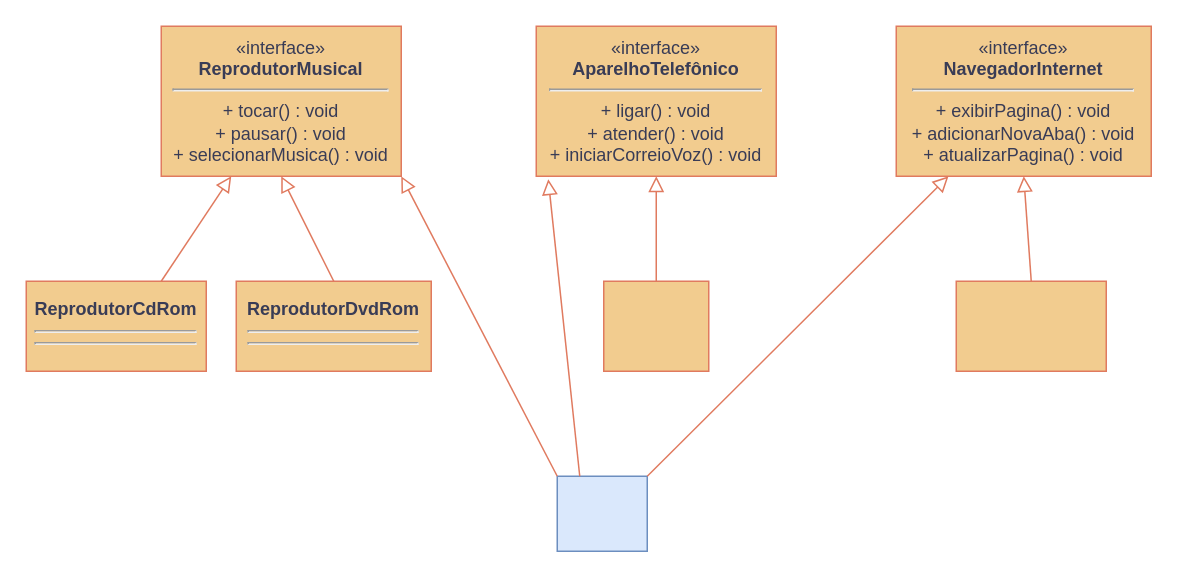
The diagram is 1178 pixels wide and 578 high, and some of its shapes have lost their labels. The shapes that lost their labels are listed below. From the top down, each one's centre as x and y in pixels, then its label:
At point 655,325: "Celular".
At point 1030,325: "Computador".
At point 601,513: "Iphone".
